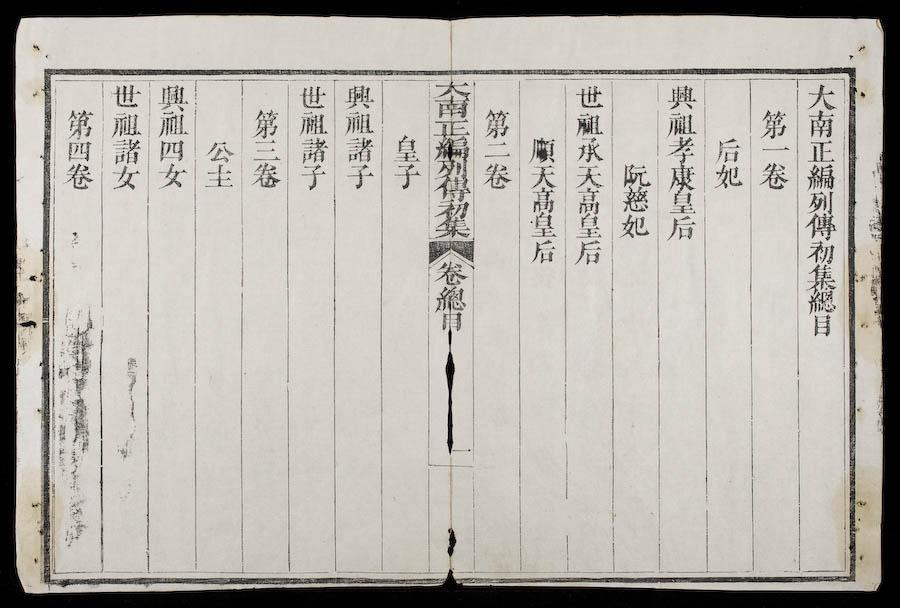c: (63, 107, 95, 139), (758, 107, 790, 139), (250, 107, 281, 139), (481, 107, 512, 139), (433, 175, 471, 201), (342, 82, 376, 111), (432, 136, 471, 161), (758, 160, 790, 190), (62, 162, 95, 191), (804, 82, 838, 110), (110, 82, 143, 110), (156, 83, 189, 111), (665, 82, 698, 110), (109, 138, 143, 165), (342, 137, 376, 164), (433, 260, 469, 285), (527, 135, 558, 164), (250, 162, 282, 190), (156, 163, 188, 191), (805, 110, 837, 138), (481, 162, 513, 190), (109, 111, 142, 138), (664, 136, 697, 163), (804, 163, 837, 190), (434, 286, 468, 312), (391, 134, 421, 163), (712, 135, 743, 163), (203, 163, 235, 190), (619, 186, 651, 213), (297, 137, 329, 164), (431, 98, 472, 119), (618, 213, 651, 239), (804, 264, 837, 290), (804, 213, 837, 239), (297, 83, 328, 110), (620, 160, 651, 187), (110, 165, 141, 192), (712, 163, 743, 190), (666, 163, 697, 190), (343, 164, 375, 190), (573, 137, 605, 163), (665, 215, 697, 241), (665, 111, 697, 137), (156, 112, 188, 138), (433, 217, 472, 238), (573, 188, 604, 214), (391, 164, 422, 190), (574, 83, 605, 109), (297, 111, 328, 137), (573, 111, 604, 137), (342, 111, 374, 136), (572, 240, 604, 265), (573, 164, 605, 189), (527, 164, 559, 189), (804, 290, 837, 314), (528, 213, 558, 239), (528, 239, 558, 265), (666, 190, 697, 215), (573, 214, 604, 239), (805, 138, 836, 163), (805, 240, 837, 264), (298, 164, 327, 190), (528, 188, 558, 213), (204, 138, 234, 163), (156, 138, 187, 162), (433, 79, 472, 98), (433, 200, 471, 219), (805, 190, 836, 213), (63, 139, 94, 162), (432, 159, 471, 177), (431, 120, 472, 137), (251, 139, 281, 162), (809, 314, 835, 338), (483, 139, 512, 160), (437, 312, 466, 332), (759, 142, 791, 157)
